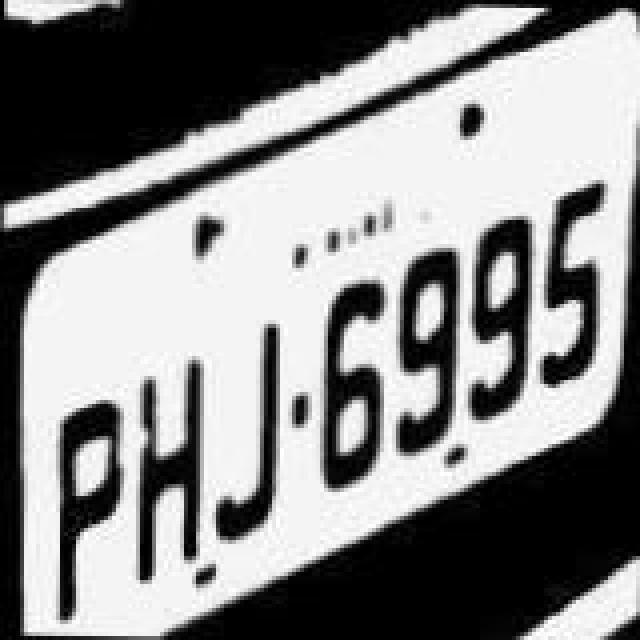5: (536, 180, 604, 396)
6: (318, 272, 386, 492)
9: (462, 206, 534, 422), (396, 240, 464, 464)
H: (134, 352, 210, 580)
J: (208, 318, 280, 546)
P: (50, 404, 126, 628)
